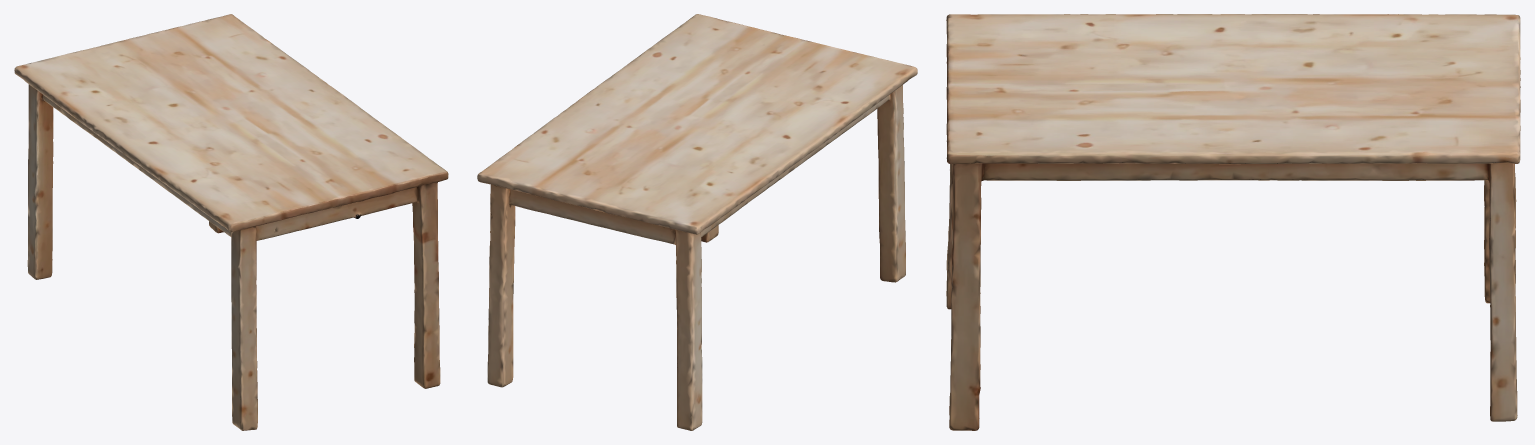
3 views of the same model, side by side, from view 1: azimuth 30°, elevation 25°; view 2: azimuth 150°, elevation 25°; view 3: azimuth 270°, elevation 25° (orthographic). The views are drawn at different scales.
Visible parts, largest first — view 1: Mesh_0; view 2: Mesh_0; view 3: Mesh_0.
Boxes of the visible parts, x1=… form: Mesh_0: x1=14, y1=14, x2=448, y2=430; Mesh_0: x1=477, y1=14, x2=917, y2=430; Mesh_0: x1=946, y1=14, x2=1520, y2=430.
Bounding box in the file's own units: 0.8172 × 0.76 × 1.4.
Materials: 1 (1 with a texture image).
